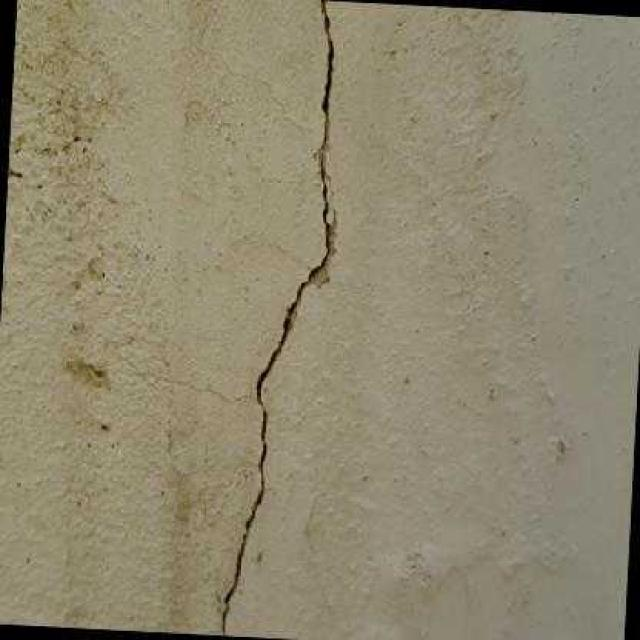D00: (221, 0, 333, 636)
